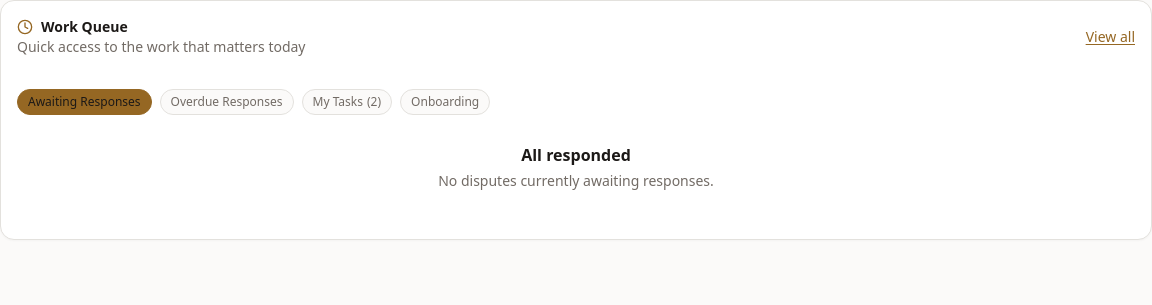
Test case: WorkQueue › Data Fetching › should filter out completed tasks
The image size is (1152, 305).
Click the button "My Tasks(2)": coordinates (347, 102) [302, 89, 392, 115]
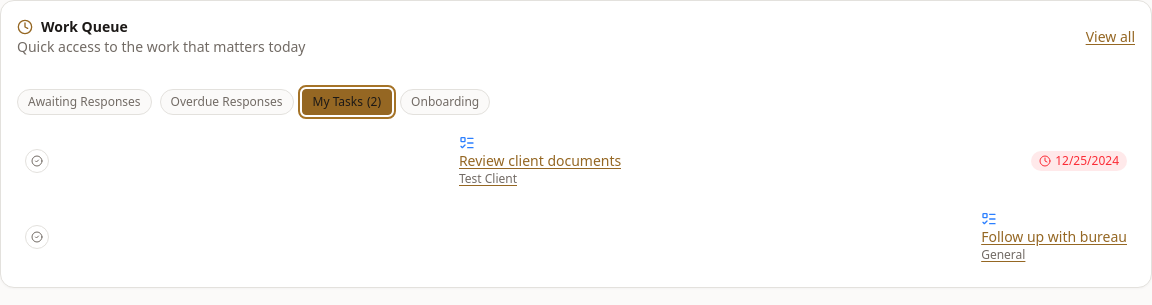
Check: the text "Review client documents" is shown, box [459, 151, 621, 171]
Check: the text "Follow up with bureau" is shown, box [981, 227, 1127, 247]
